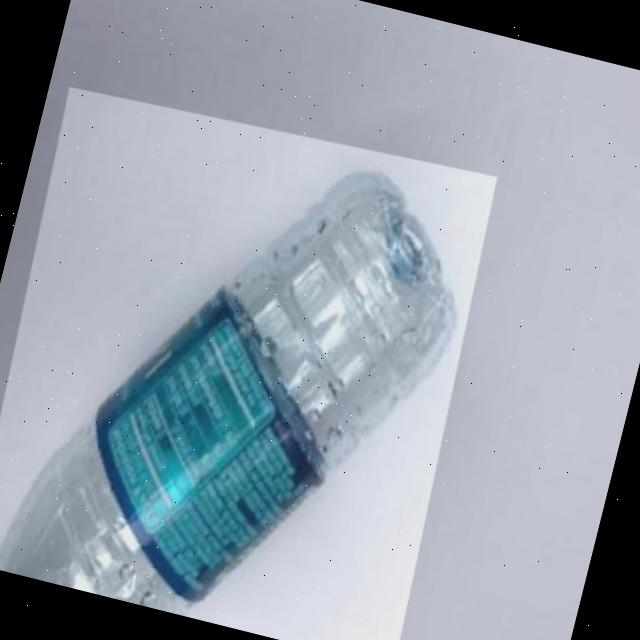trash: (0, 91, 494, 640)
